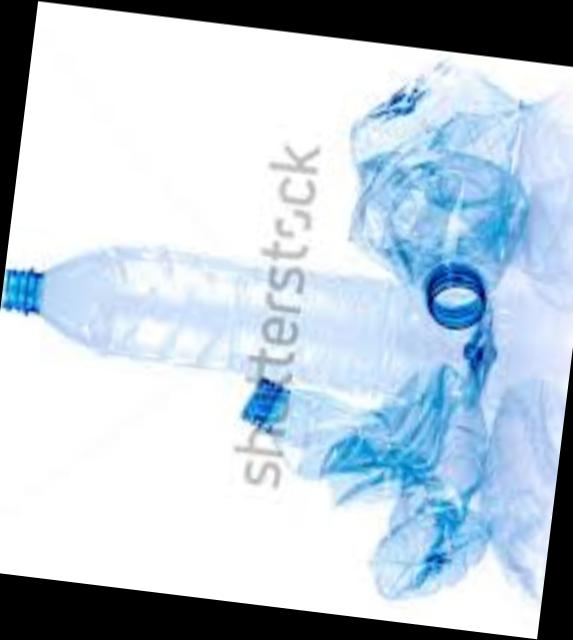plastic: (0, 247, 463, 404), (346, 66, 521, 329)
